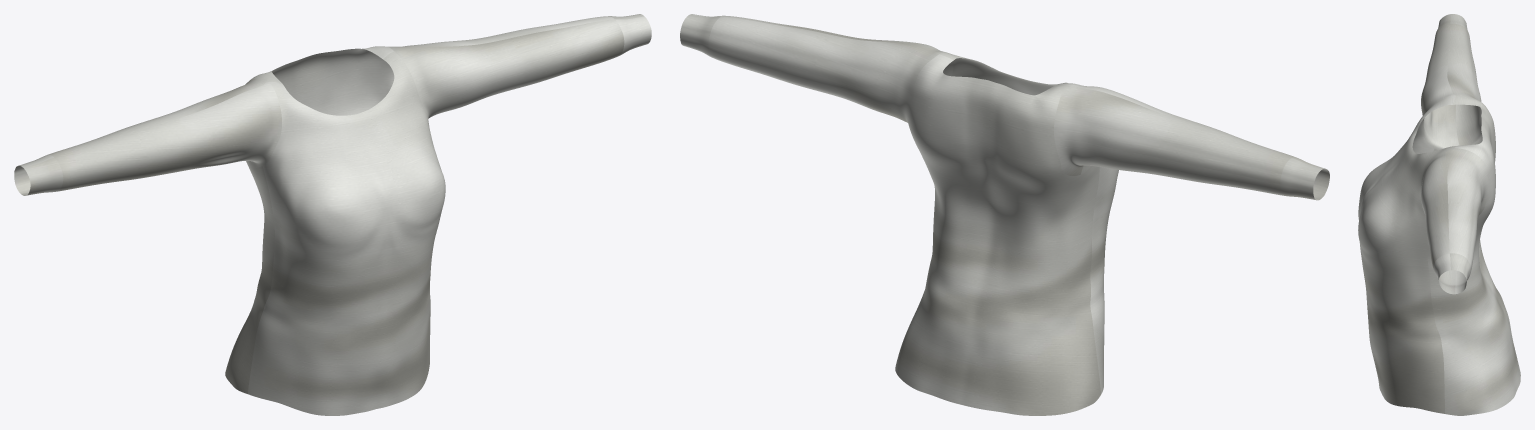
Rendered from Huku02.fbx.
The picture shows the model from 3 angles, left to right: view 1: azimuth 30°, elevation 25°; view 2: azimuth 150°, elevation 25°; view 3: azimuth 270°, elevation 25°; orthographic projection. The views are drawn at different scales.
Visible parts, largest first — view 1: Huku02; view 2: Huku02; view 3: Huku02.
Boxes of the visible parts, x1,y1,x2,y2 form: Huku02: (14,14,651,415); Huku02: (680,14,1329,415); Huku02: (1358,14,1520,415).
Bounding box in the file's own units: 110 × 52.59 × 29.41.
1 material, 1 textured.
